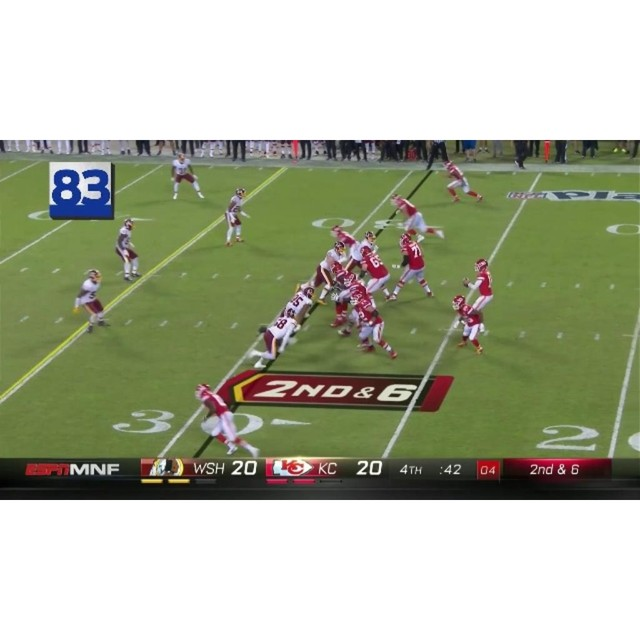american-football-player: (194, 382, 259, 456), (350, 292, 398, 361), (249, 309, 299, 371), (388, 234, 434, 300), (390, 193, 445, 240), (311, 240, 348, 306), (74, 269, 110, 332), (360, 245, 396, 301), (452, 295, 485, 355), (442, 159, 484, 204), (463, 259, 493, 315), (171, 152, 205, 201), (115, 219, 140, 280), (225, 186, 249, 247), (330, 224, 360, 272), (345, 231, 377, 276), (284, 284, 316, 326)
